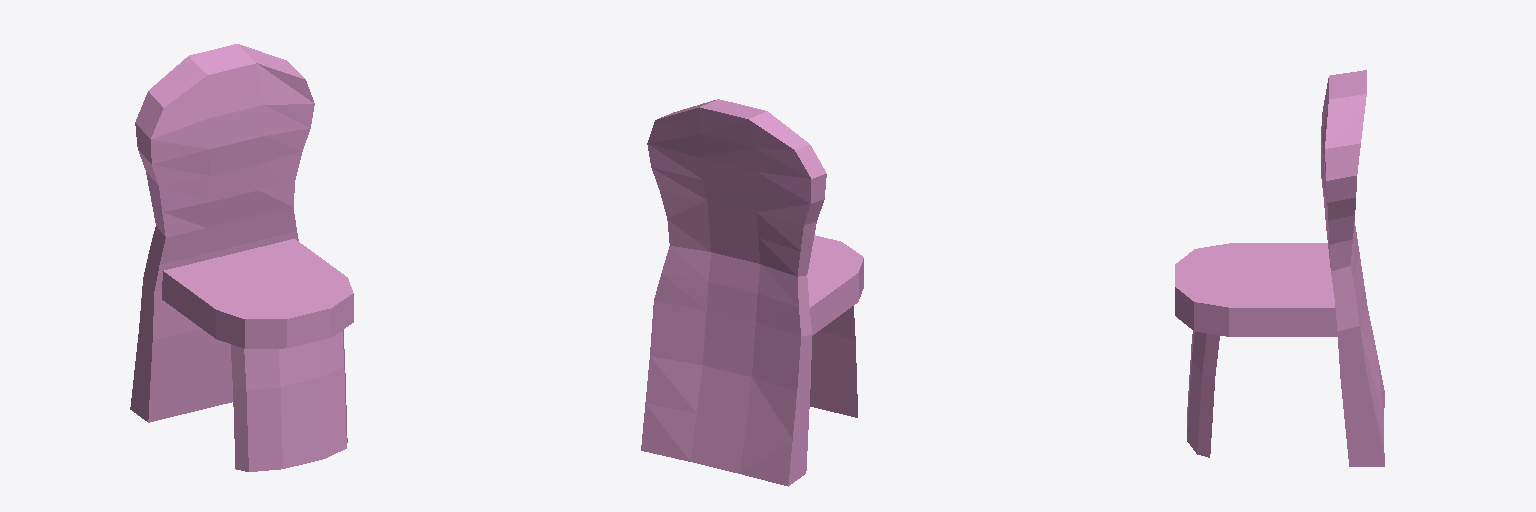
File: Silla_01.obj
3 renders of one model, left to right at view 1: azimuth 30°, elevation 25°; view 2: azimuth 150°, elevation 25°; view 3: azimuth 270°, elevation 25°, orthographic.
Parts seen in each view (by area): view 1: Silla_01; view 2: Silla_01; view 3: Silla_01.
Part boxes in pixels (bbox=[...]): Silla_01: bbox=[130, 44, 353, 471]; Silla_01: bbox=[641, 99, 863, 486]; Silla_01: bbox=[1175, 70, 1384, 466].
Bounding box in the file's own units: 20.29 × 41.16 × 22.56.